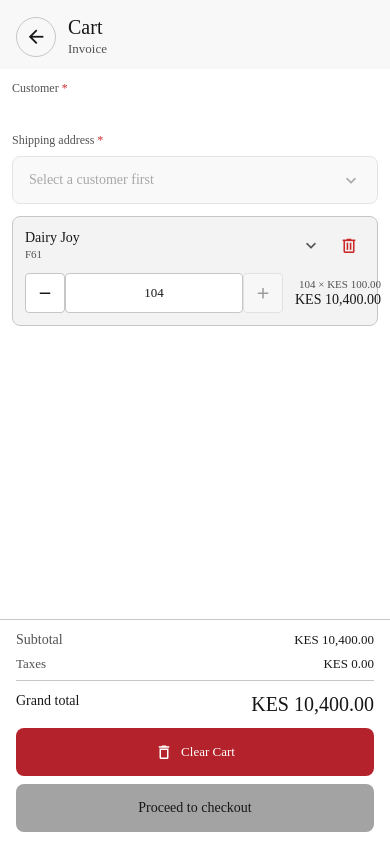
PosCartScreen › shows complete available cartons without a repeating decimal
expect the text "Available Cartons: 104" is not shown: met
What coordinates should you click on to do the following:
click the button with aria-label "View details for Dairy Joy"
I would click on:
 (52, 238)
Its box is [25,230,321,260].
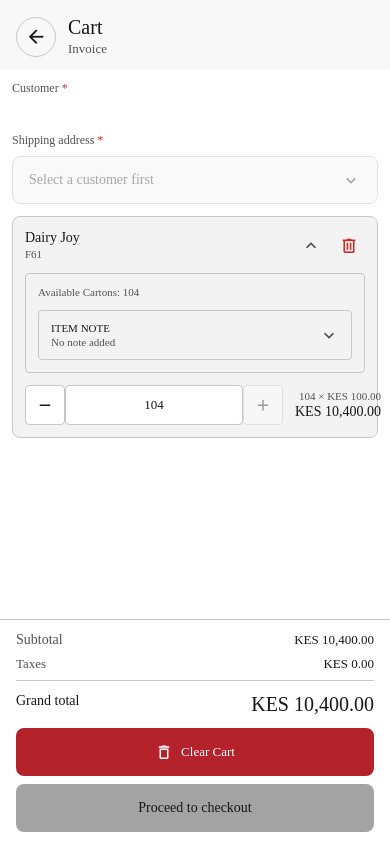
expect the text "Available Cartons: 104" is shown: met, box [38,286,139,298]
